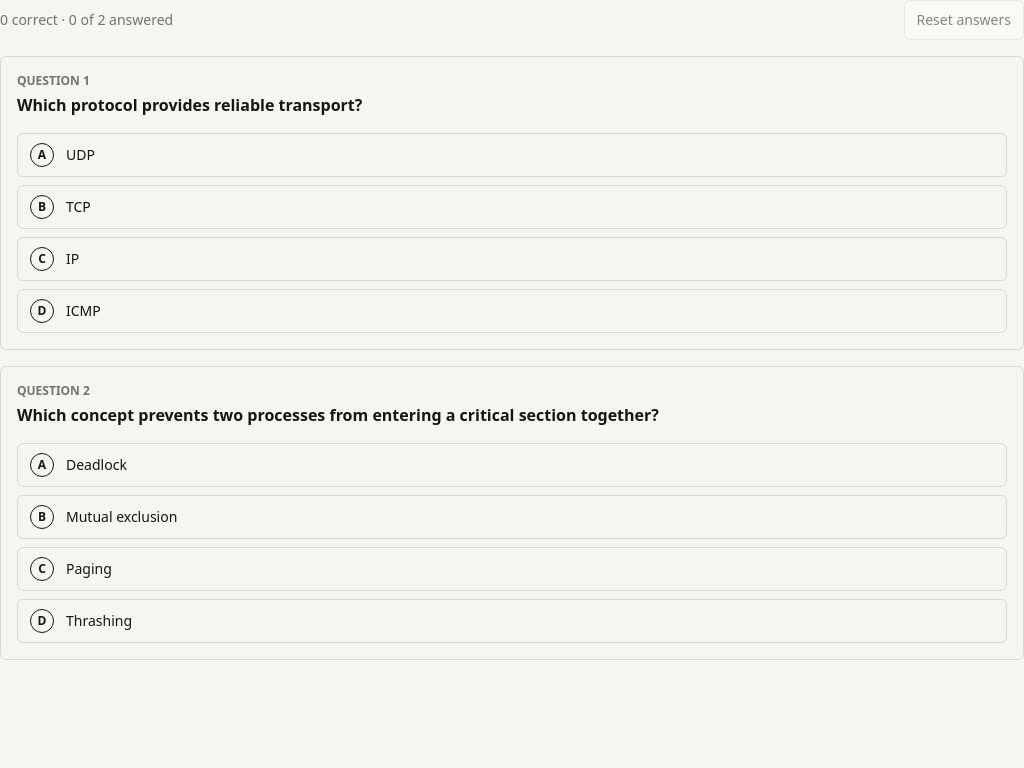
Scenario: InteractiveMcqs › clears selected answers with reset
Click the button "B TCP": (42, 207) [17,185,1007,229]
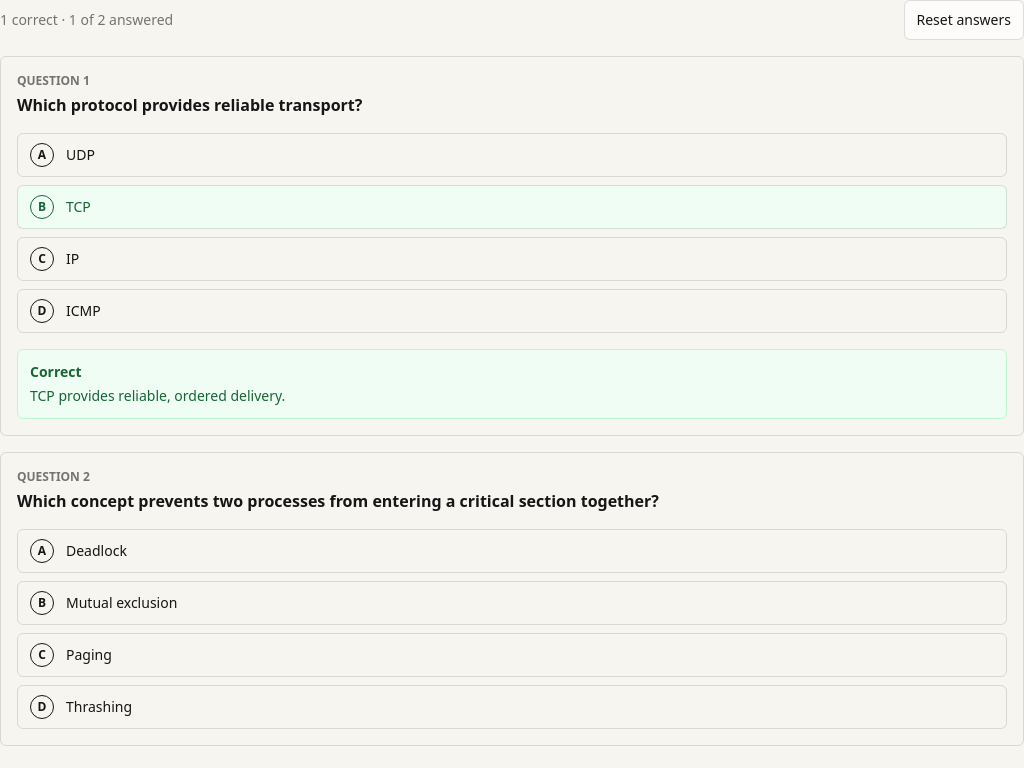
Expected: the text "1 correct · 1 of 2 answered" is shown, [0,10,173,30]
Click the button "Reset answers": (964, 20) [904,0,1023,40]
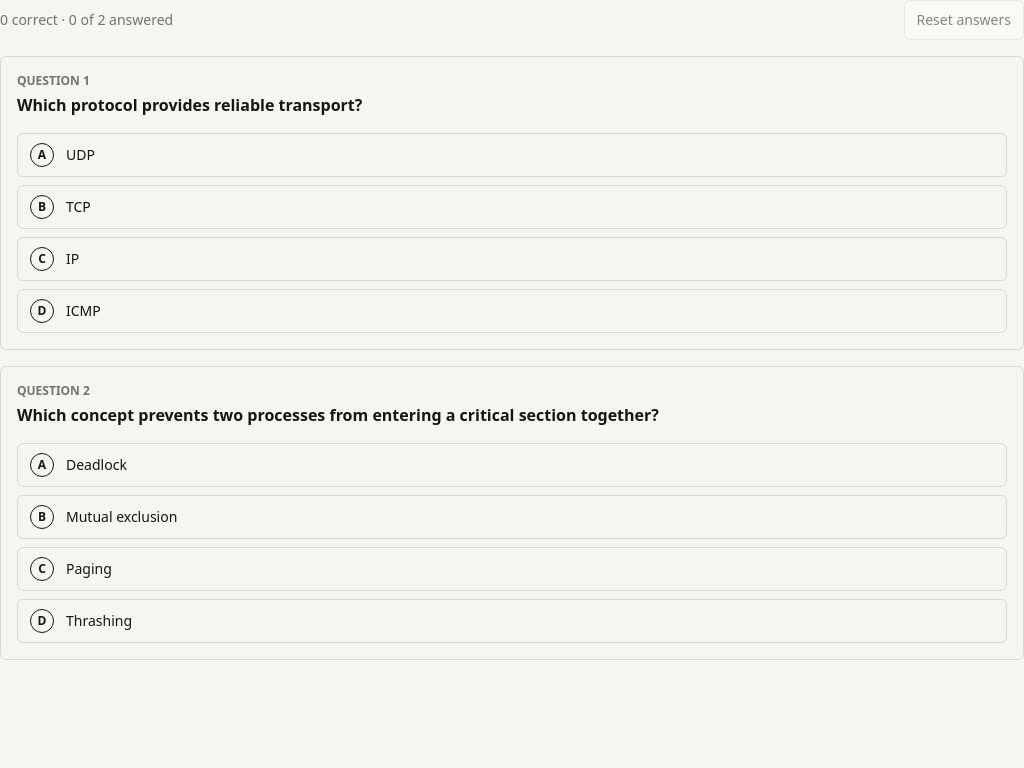
Expected: the text "0 correct · 0 of 2 answered" is shown, [0,10,173,30]
